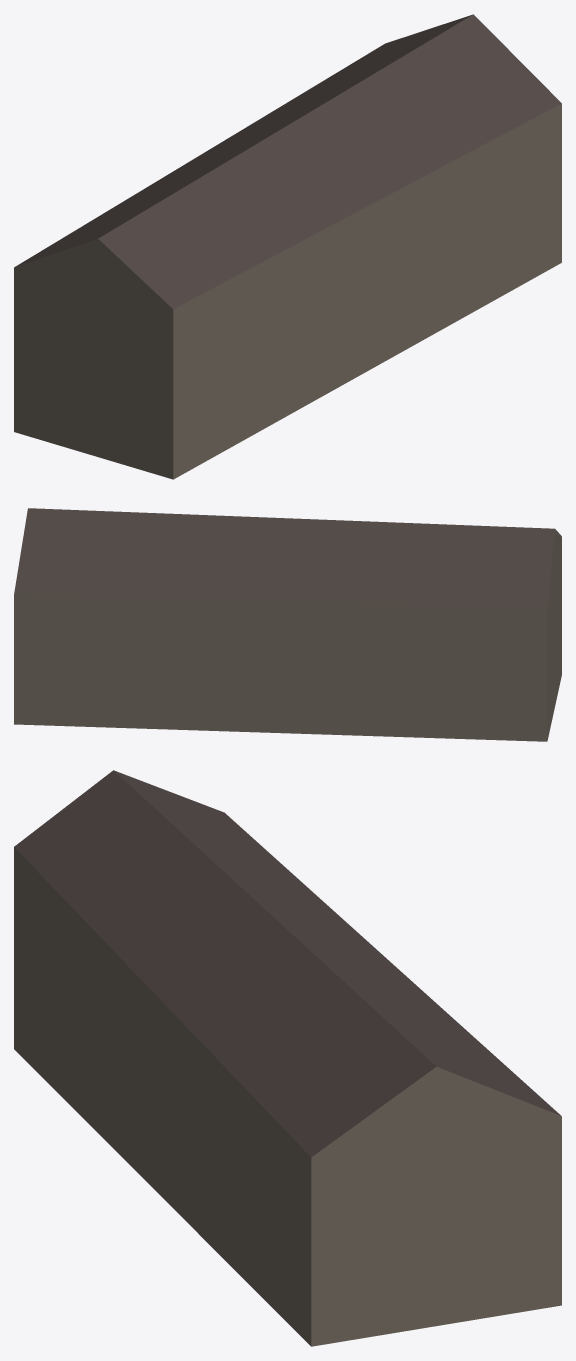
The picture shows the model from 3 angles, top to bottom: view 1: azimuth 30°, elevation 25°; view 2: azimuth 150°, elevation 25°; view 3: azimuth 270°, elevation 25°; orthographic projection. The views are drawn at different scales.
Visible parts, largest first — view 1: HP-w1512359774; view 2: HP-w1512359774; view 3: HP-w1512359774.
Boxes of the visible parts, x1,y1,x2,y2 form: HP-w1512359774: (14, 14, 561, 479); HP-w1512359774: (14, 508, 561, 741); HP-w1512359774: (14, 770, 561, 1346).
Size of the model in its own units: 34.56 by 12.34 by 23.63.
